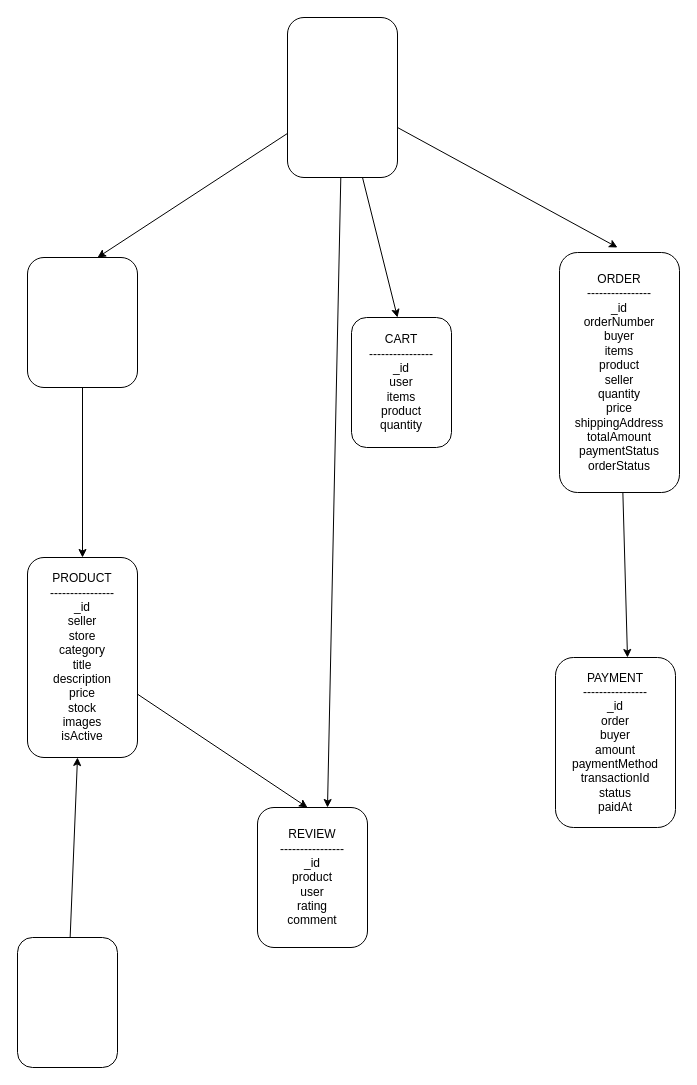
Image size: 697x1085. Some labels were removed from this diagram. Here are the shapes that lost their labels. From the top down, the centre of each, then its label:
[342,97]: USER ---------------- _id name email password roles isSeller shippingAddress
[82,322]: STORE ---------------- _id seller storeName description isActive
[67,1002]: CATEGORY -------------- _id name
